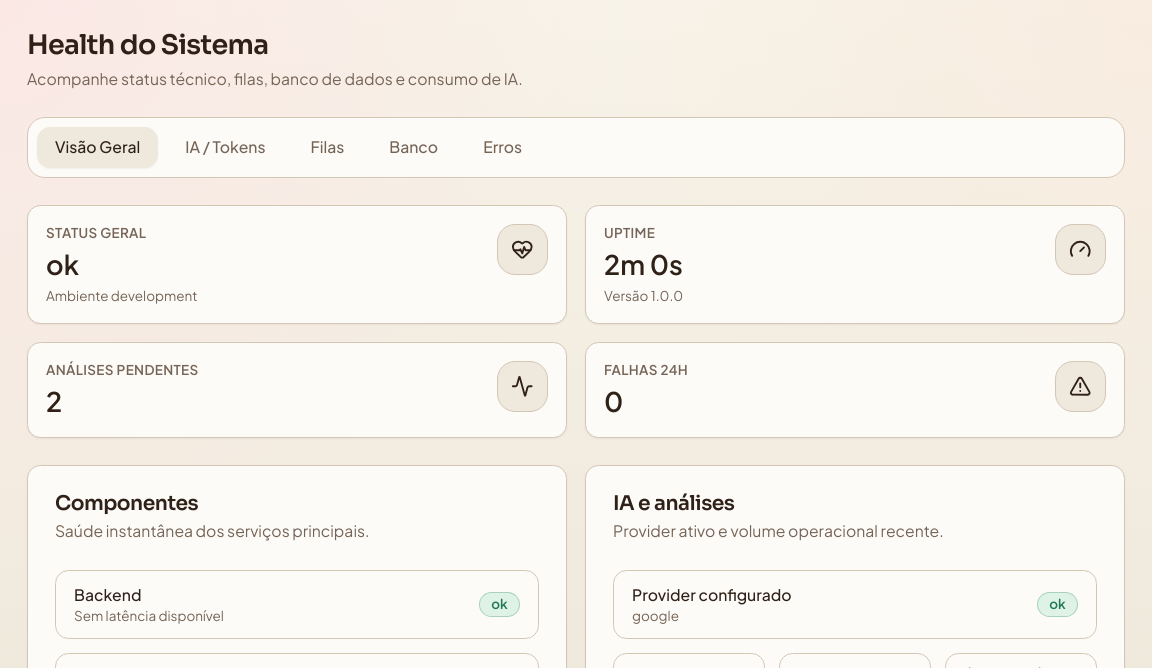
Scenario: SystemHealthPage › carrega a aba de IA e mostra o aviso de billing oficial
This screenshot has width=1152, height=668.
Expected: the text "Status geral" is shown, top-left (46, 224), bottom-right (146, 240)
Click the button "IA / Tokens".
click(225, 147)  # box top-left (167, 127), bottom-right (284, 168)
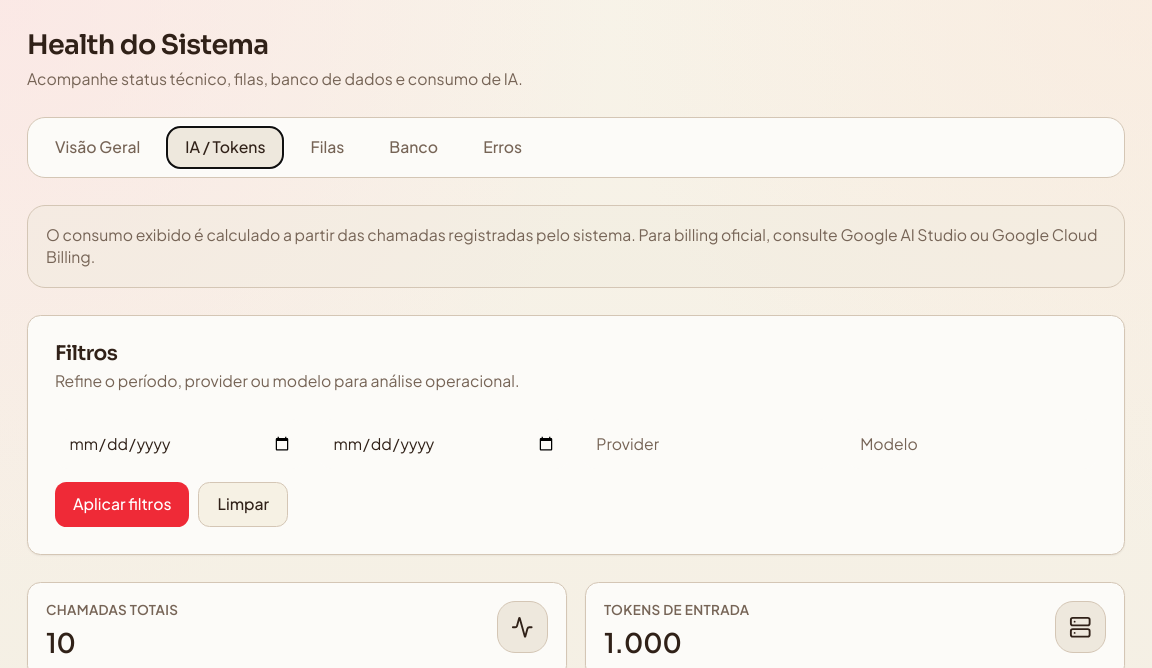
Now the text "billing oficial" is shown, box top-left (46, 224), bottom-right (1098, 266)
